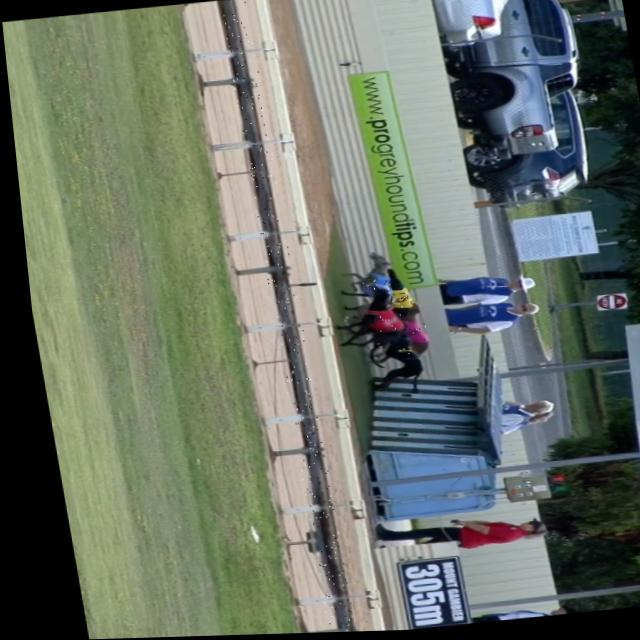dog_eight: (390, 321, 419, 346)
dog_five: (381, 292, 407, 310)
dog_four: (355, 280, 385, 298)
dog_one: (365, 314, 394, 335)
dog_seven: (381, 343, 409, 360)
rail: (217, 0, 340, 634)
